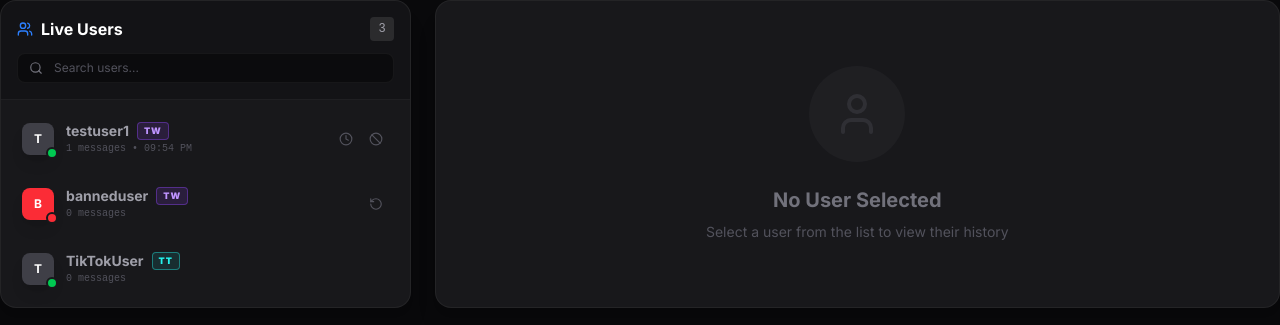
UserList › shows user details when clicked
# Click on user
Click the text "testuser1" at (97, 131), box [66, 121, 129, 141]
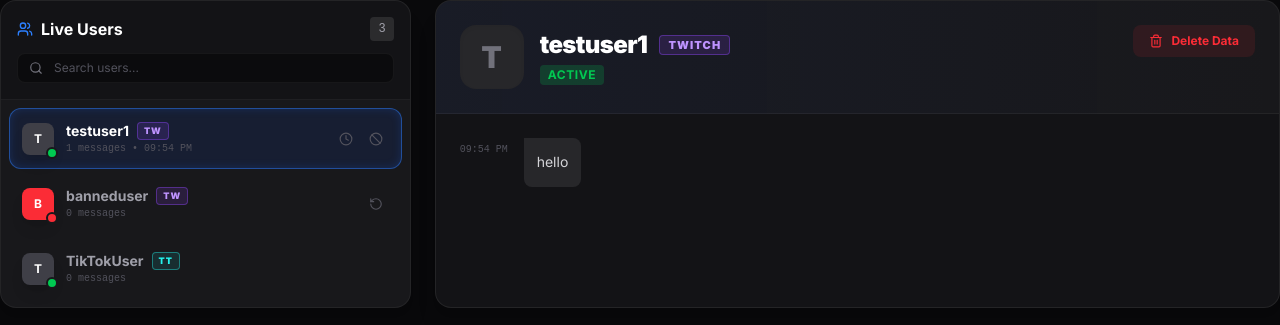
Expected: the text "hello" is shown, [537, 151, 568, 174]
